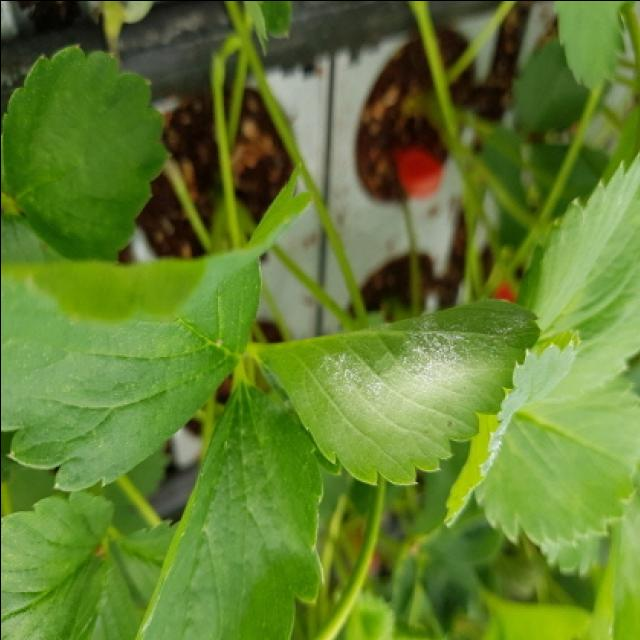Powdery Mildew Leaf: (245, 298, 539, 485), (443, 327, 581, 527)
